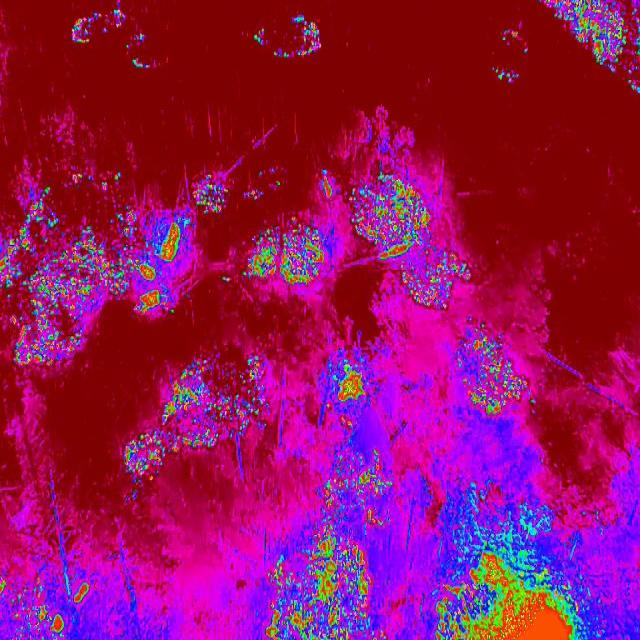fire: (258, 444, 386, 640), (0, 192, 197, 312), (428, 500, 592, 640), (346, 184, 478, 308), (230, 216, 338, 298), (166, 361, 268, 445), (454, 325, 539, 423), (526, 0, 640, 69), (0, 569, 99, 640), (315, 352, 378, 418), (14, 311, 84, 368), (120, 423, 166, 488), (195, 178, 232, 218)
